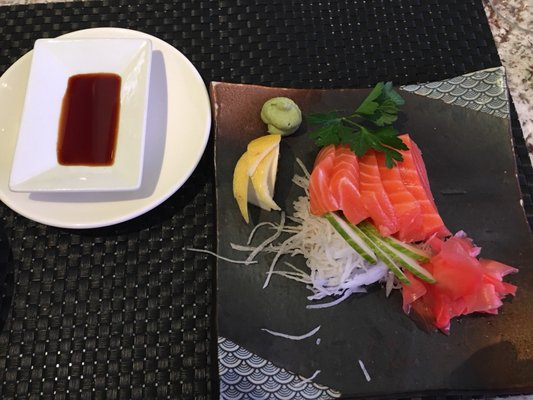sushi: (205, 81, 532, 392)
